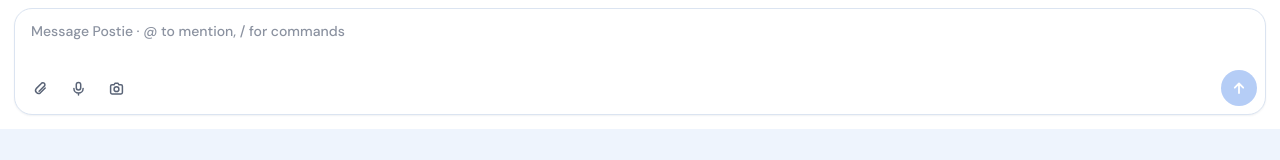
Test: @ mentions in a one-to-one chat › completes with Tab too, and Escape closes without touching the text
In the text box labelled "Message Postie · @ to mention, / for commands": coordinates (640, 39) [15,9,1265,68], type "@fa"
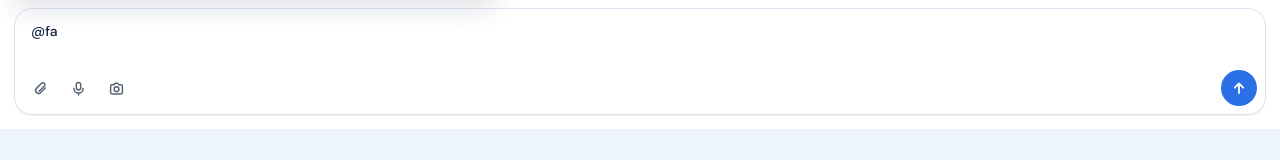
Press Escape in the text box named "Message Postie", box [15,9,1265,68]
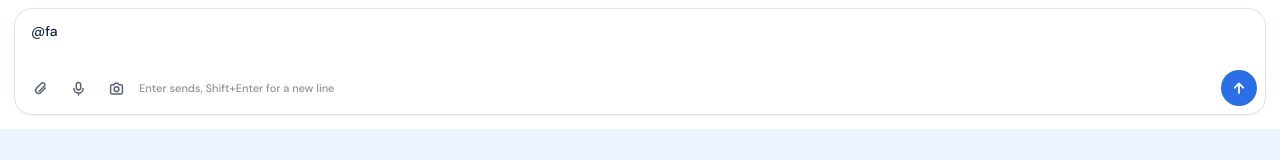
Replace the text in the text box named "Message Postie" with "@fat": coordinates (640, 39) [15,9,1265,68]
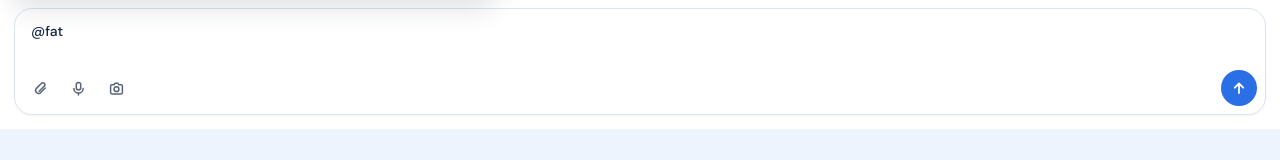
Press Tab in the text box named "Message Postie", box [15,9,1265,68]
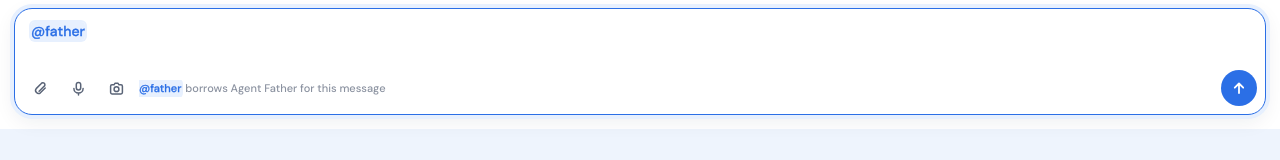
Expected: the text box named "Message Postie" holds "@father ", [15,9,1265,68]
